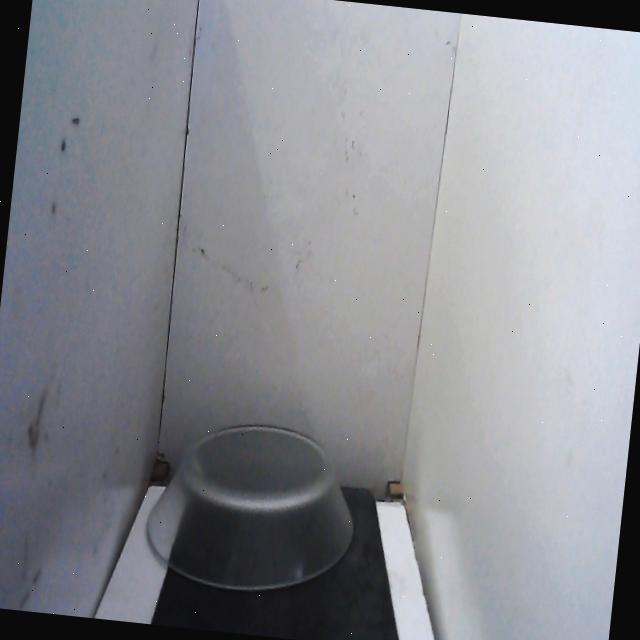vidro: (135, 404, 369, 614)
